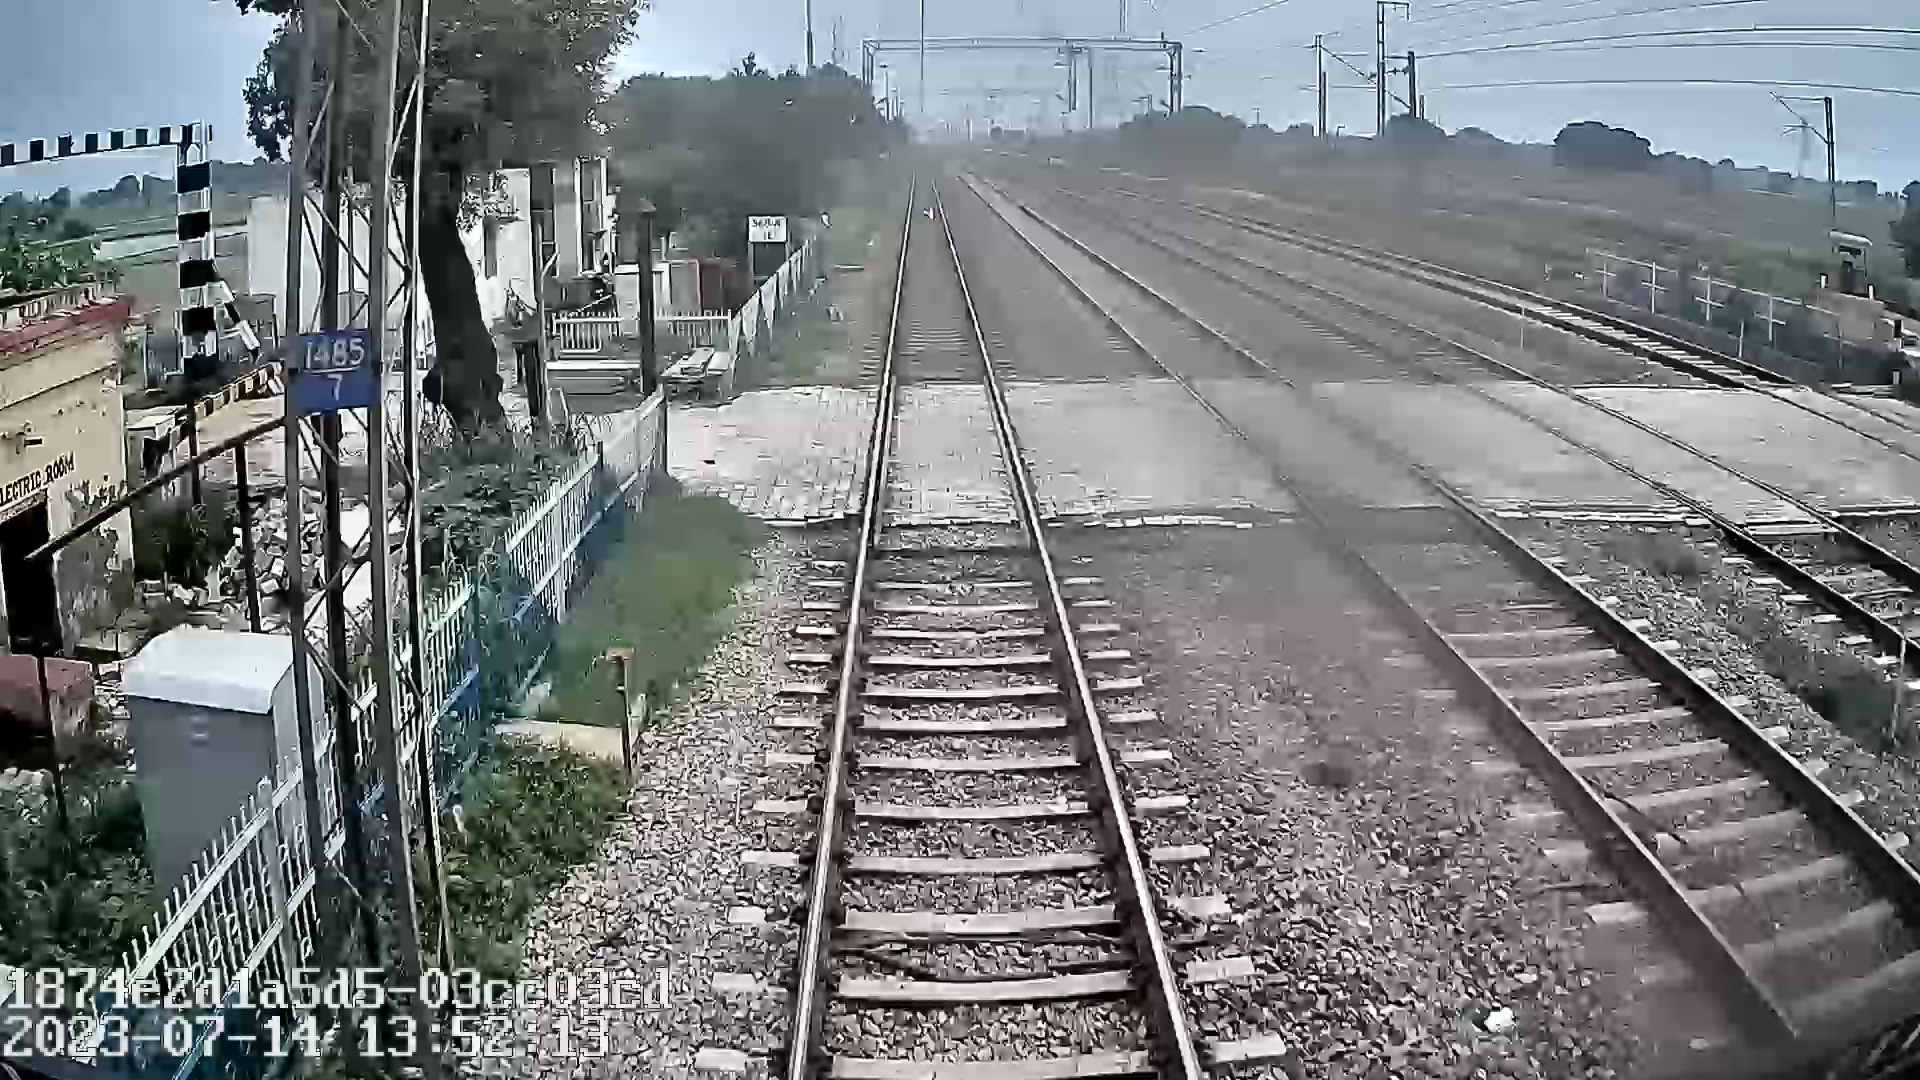track1: (798, 178, 1192, 1068)
track2: (959, 175, 1909, 964)
track3: (1146, 235, 1916, 618)
track4: (1250, 224, 1916, 451)
